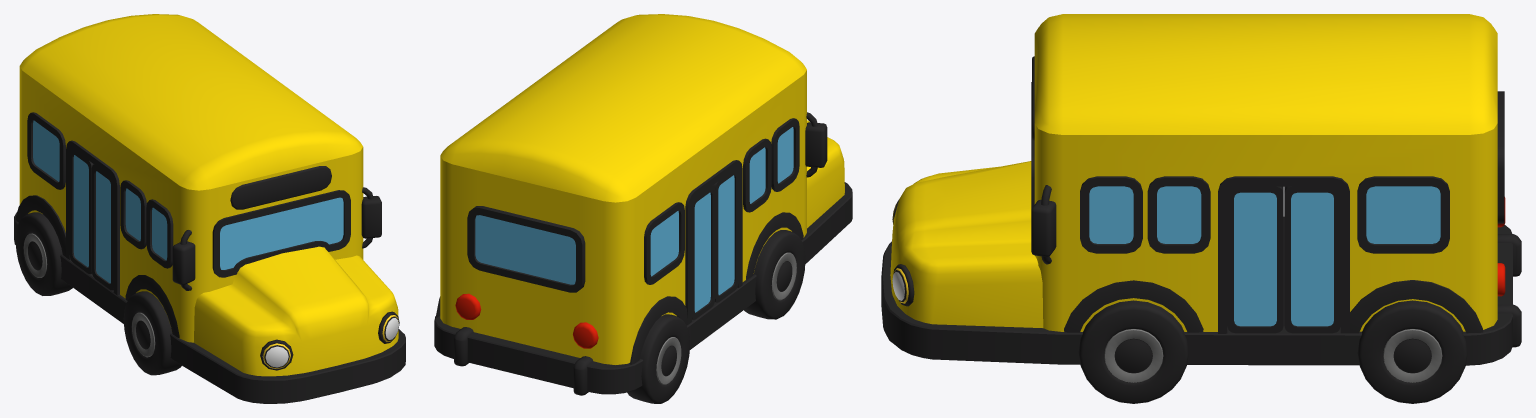
Rendered from Bus.fbx.
3 renders of one model, left to right at view 1: azimuth 30°, elevation 25°; view 2: azimuth 150°, elevation 25°; view 3: azimuth 270°, elevation 25°, orthographic. The views are drawn at different scales.
Visible parts, largest first — view 1: Bus_Body.003, Bus_Front, Bus_Body, Bus_Base, Windows-4, Wheel_Front, Wheel_Back, Door-1.001, Door-2.001, Header, Windows-1, Mirror (+6 smaller); view 2: Bus_Body.003, Bus_Body, Bus_Base, Windows-5, Wheel_Front, Wheel_Back, Door-2.001, Door-1.001, Windows-1, Bus_Front, DoorFrame, Windows-3 (+6 smaller); view 3: Bus_Body.003, Bus_Body, Bus_Front, Bus_Base, Wheel_Front, Wheel_Back, Door-2, Door-1, Windows-1, Windows-2, Windows-3, DoorFrame (+6 smaller).
Part boxes in pixels (<box>): Bus_Body.003: <box>19,14,362,190</box>; Bus_Front: <box>194,246,398,376</box>; Bus_Body: <box>19,67,363,342</box>; Bus_Base: <box>14,212,405,403</box>; Windows-4: <box>212,190,350,277</box>; Wheel_Front: <box>123,291,181,375</box>; Wheel_Back: <box>15,212,72,295</box>; Door-1.001: <box>69,148,93,274</box>; Door-2.001: <box>92,164,113,290</box>; Header: <box>230,166,331,209</box>; Windows-1: <box>27,112,65,189</box>; Mirror: <box>172,187,381,290</box>; Bus_Body.003: <box>440,14,806,202</box>; Bus_Body: <box>440,70,806,364</box>; Bus_Base: <box>434,182,852,394</box>; Windows-5: <box>467,206,585,292</box>; Wheel_Front: <box>744,230,805,319</box>; Wheel_Back: <box>627,314,689,403</box>; Door-2.001: <box>713,168,738,302</box>; Door-1.001: <box>692,185,715,319</box>; Windows-1: <box>644,202,684,284</box>; Bus_Front: <box>807,120,844,228</box>; DoorFrame: <box>685,160,742,324</box>; Windows-3: <box>771,118,799,191</box>; Bus_Body.003: <box>1034,14,1497,134</box>; Bus_Body: <box>1034,123,1497,331</box>; Bus_Front: <box>890,161,1043,327</box>; Bus_Base: <box>881,217,1512,365</box>; Wheel_Front: <box>1078,300,1188,403</box>; Wheel_Back: <box>1357,300,1467,403</box>; Door-2: <box>1227,186,1283,333</box>; Door-1: <box>1284,186,1340,333</box>; Windows-1: <box>1357,176,1449,253</box>; Windows-2: <box>1147,176,1210,253</box>; Windows-3: <box>1080,176,1142,253</box>; DoorFrame: <box>1218,176,1349,333</box>.
Size of the model in its own units: 90.99 by 97.93 by 189.
Materials: 2 (1 with a texture image).
